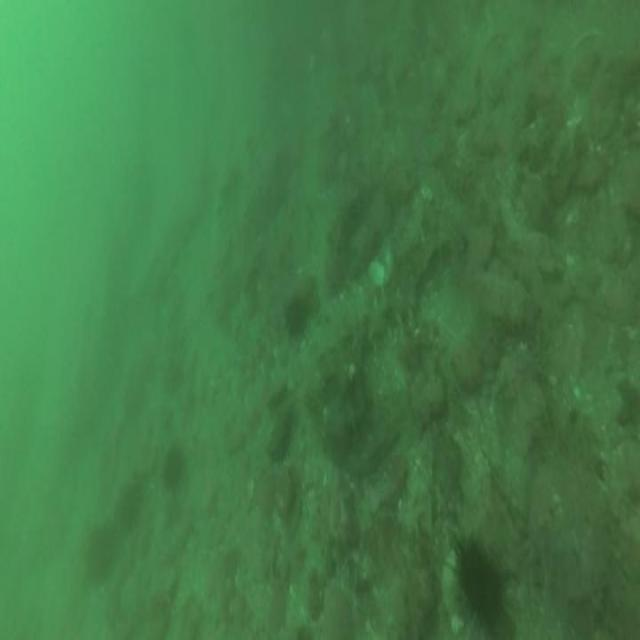echinus: (446, 528, 513, 637), (80, 521, 118, 591), (111, 478, 147, 538), (280, 290, 313, 342), (158, 441, 187, 496)
holothurian: (364, 286, 422, 352)
